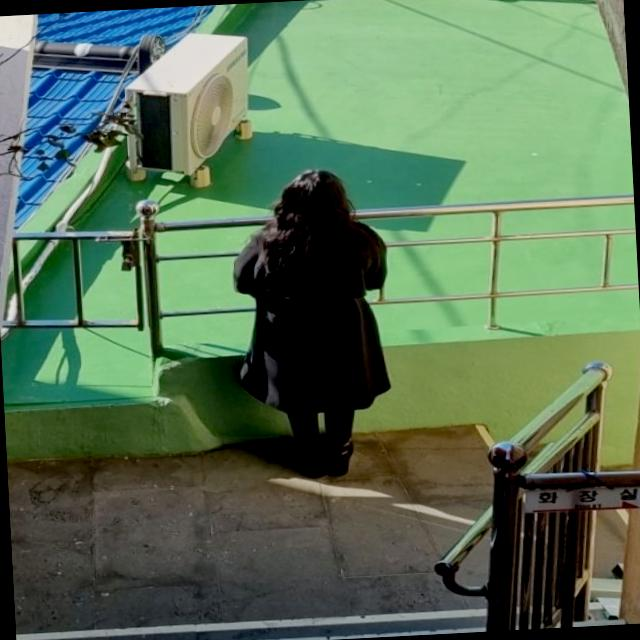coat: (230, 212, 400, 422)
